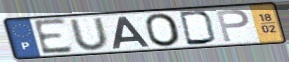A: (111, 15, 152, 50)
D: (177, 10, 218, 46)
E: (31, 17, 76, 56)
O: (143, 12, 184, 48)
P: (214, 8, 251, 43)
U: (67, 16, 112, 52)
